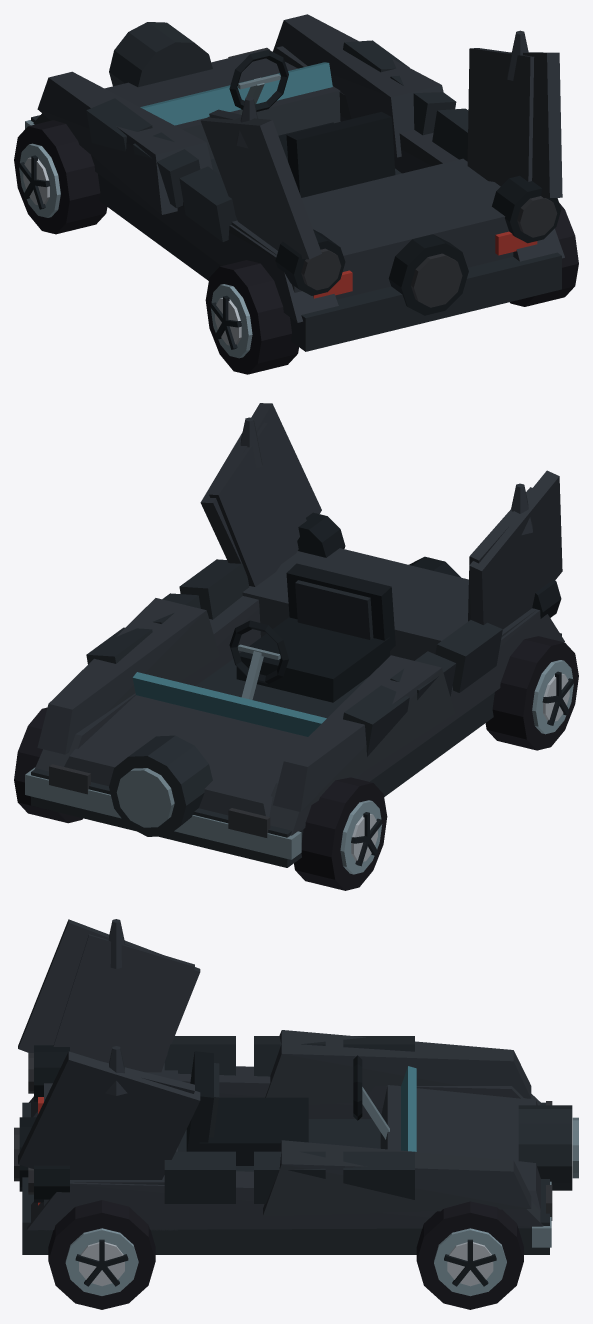
The model's file is kart.glb.
3 views of the same model, one above another, from view 1: azimuth 30°, elevation 25°; view 2: azimuth 150°, elevation 25°; view 3: azimuth 270°, elevation 25° (orthographic). The views are drawn at different scales.
Parts seen in each view (by area): view 1: identity-batmobile-batmobile-turbine-nose, identity-batmobile-motif-armor, identity-batmobile-motif-bat-fins, identity-batmobile-driver-cockpit, wheel-rear-left, wheel-front-left, identity-batmobile-motif-thrusters, wheel-rear-right; view 2: identity-batmobile-batmobile-turbine-nose, identity-batmobile-driver-cockpit, identity-batmobile-motif-bat-fins, identity-batmobile-motif-armor, wheel-front-left, wheel-rear-left, identity-batmobile-motif-thrusters, wheel-front-right; view 3: identity-batmobile-batmobile-turbine-nose, identity-batmobile-motif-bat-fins, identity-batmobile-motif-armor, wheel-rear-right, wheel-front-right, identity-batmobile-driver-cockpit, identity-batmobile-motif-thrusters.
Part boxes in pixels (x1,y1,x2,y2): identity-batmobile-batmobile-turbine-nose: (25,14,564,351); identity-batmobile-motif-armor: (86,40,468,241); identity-batmobile-motif-bat-fins: (209,30,534,183); identity-batmobile-driver-cockpit: (229,49,395,197); wheel-rear-left: (205,260,298,374); wheel-front-left: (14,120,107,234); identity-batmobile-motif-thrusters: (275,175,561,295); wheel-rear-right: (510,203,578,306); identity-batmobile-batmobile-turbine-nose: (25,403,564,867); identity-batmobile-driver-cockpit: (229,563,395,702); identity-batmobile-motif-bat-fins: (209,417,532,621); identity-batmobile-motif-armor: (86,559,502,756); wheel-front-left: (294,777,387,890); wheel-rear-left: (485,636,578,750); identity-batmobile-motif-thrusters: (297,512,561,618); wheel-front-right: (14,707,82,823); identity-batmobile-batmobile-turbine-nose: (14,919,578,1254); identity-batmobile-motif-bat-fins: (53,919,194,1095); identity-batmobile-motif-armor: (164,1036,414,1203); wheel-rear-right: (48,1200,155,1309); wheel-front-right: (416,1201,523,1309); identity-batmobile-driver-cockpit: (186,1051,389,1165); identity-batmobile-motif-thrusters: (28,1045,69,1202).
Bounding box in the file's own units: 2.09 × 1.55 × 3.16.
